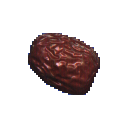gd: (13, 19, 117, 105)
